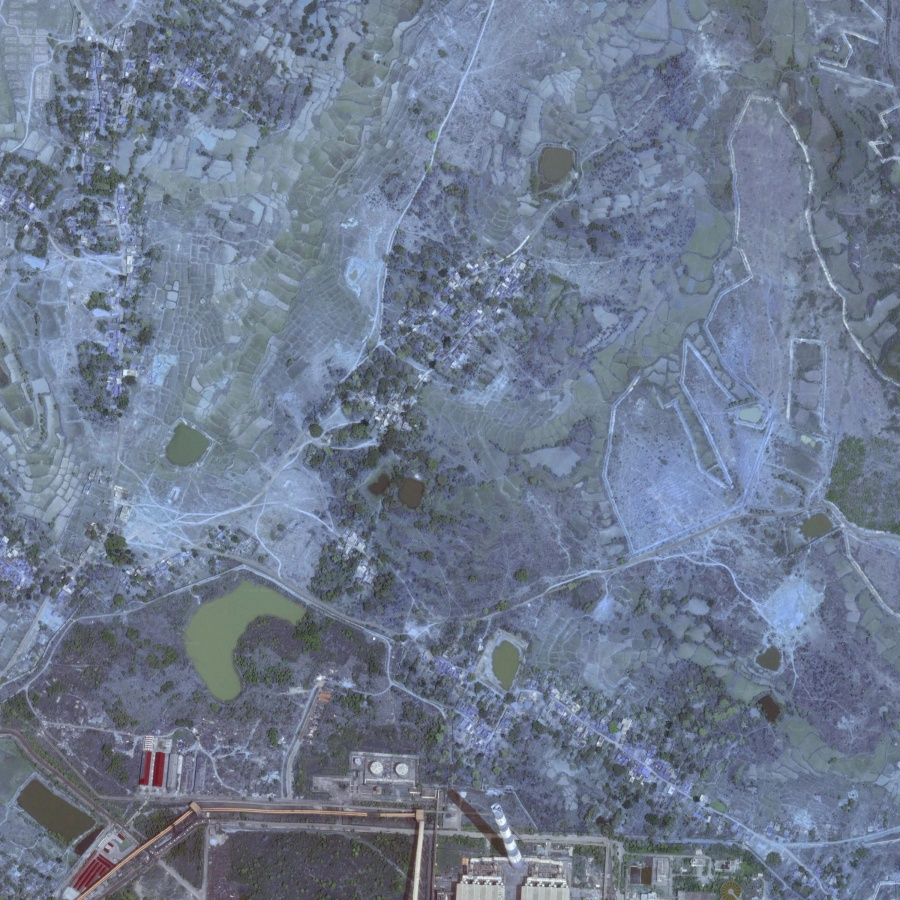PowerPlant: (422, 764, 576, 897)
